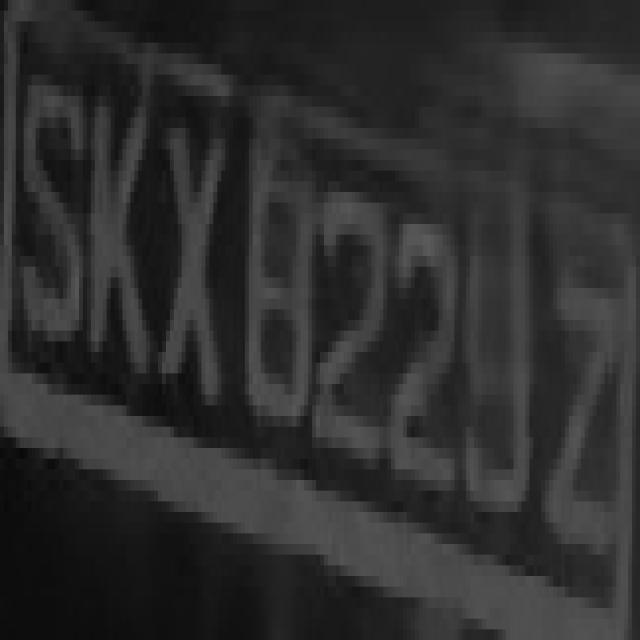2: (391, 160, 466, 533), (320, 149, 383, 523)
8: (245, 128, 308, 480)
9: (466, 160, 530, 565)
K: (79, 96, 158, 416)
S: (16, 42, 83, 362)
X: (150, 96, 233, 427)
Z: (541, 235, 624, 597)
